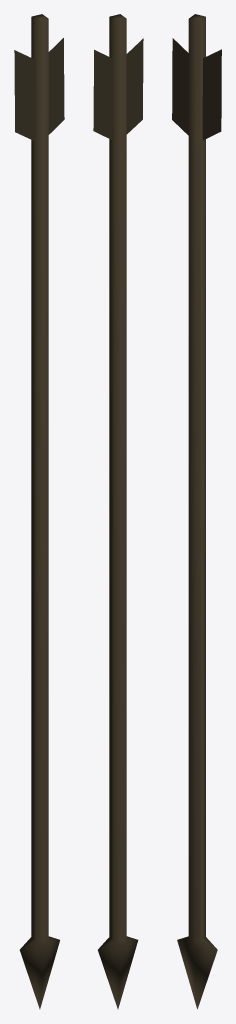
File: Arrow_PH.fbx
3 views of the same model, side by side, from view 1: azimuth 30°, elevation 25°; view 2: azimuth 210°, elevation 25°; view 3: azimuth 330°, elevation 25° (orthographic).
Parts seen in each view (by area): view 1: Arrow; view 2: Arrow; view 3: Arrow.
Boxes of the visible parts, x1,y1,x2,y2 form: Arrow: [14, 14, 64, 1009]; Arrow: [93, 14, 143, 1009]; Arrow: [172, 14, 221, 1009].
Bounding box in the file's own units: 0.039 × 0.7484 × 0.0131.
